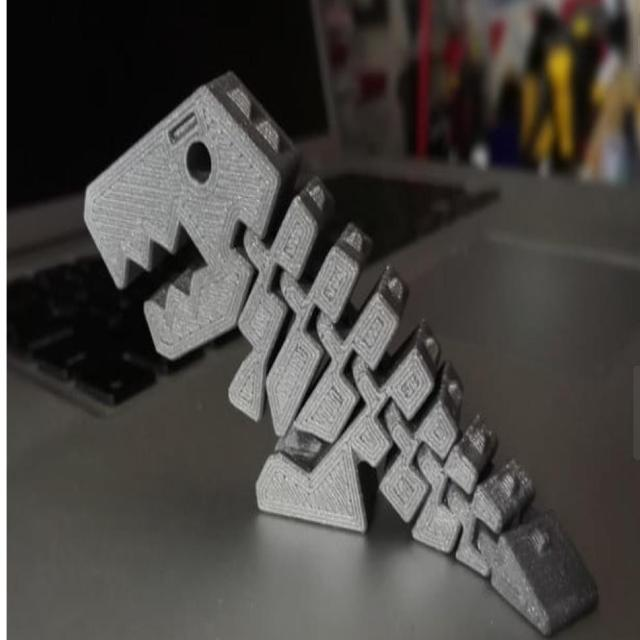Without deffect: (63, 54, 617, 640)
